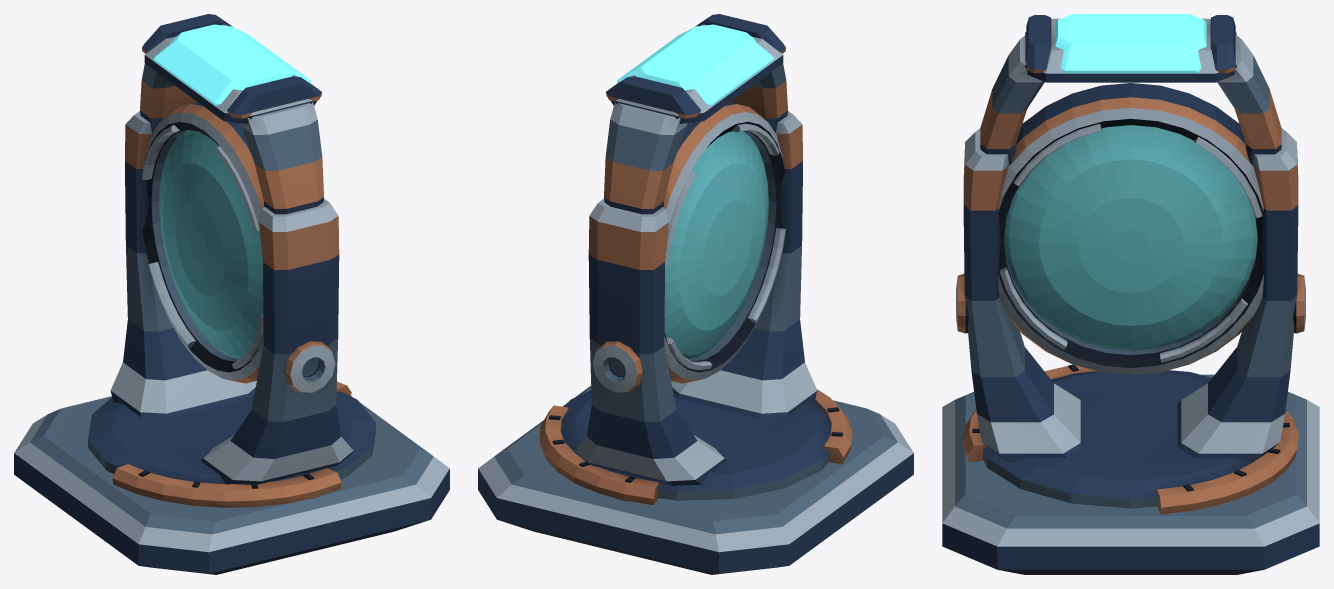
Rendered from filter.glb.
The picture shows the model from 3 angles, left to right: view 1: azimuth 30°, elevation 25°; view 2: azimuth 150°, elevation 25°; view 3: azimuth 270°, elevation 25°; orthographic projection. The views are drawn at different scales.
Parts seen in each view (by area): view 1: filter; view 2: filter; view 3: filter.
Boxes of the visible parts, left/top/right/bottom form: filter: left=14, top=14, right=449, bottom=574; filter: left=478, top=14, right=913, bottom=574; filter: left=942, top=14, right=1319, bottom=574.
Size of the model in its own units: 0.98 by 1.34 by 0.96.
